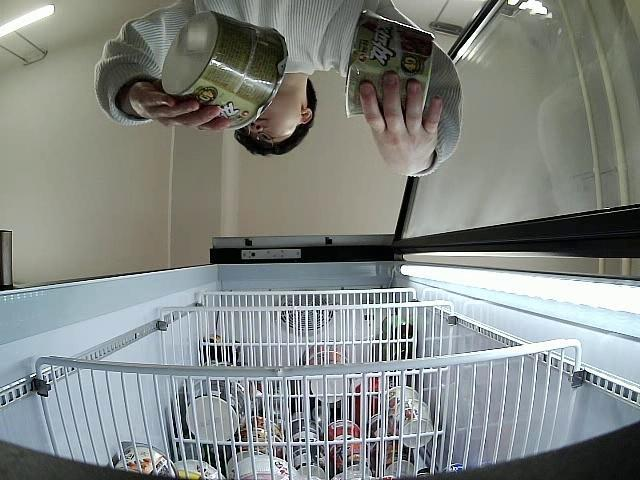03_chapagetti_L: (161, 11, 288, 132), (345, 10, 436, 118)
